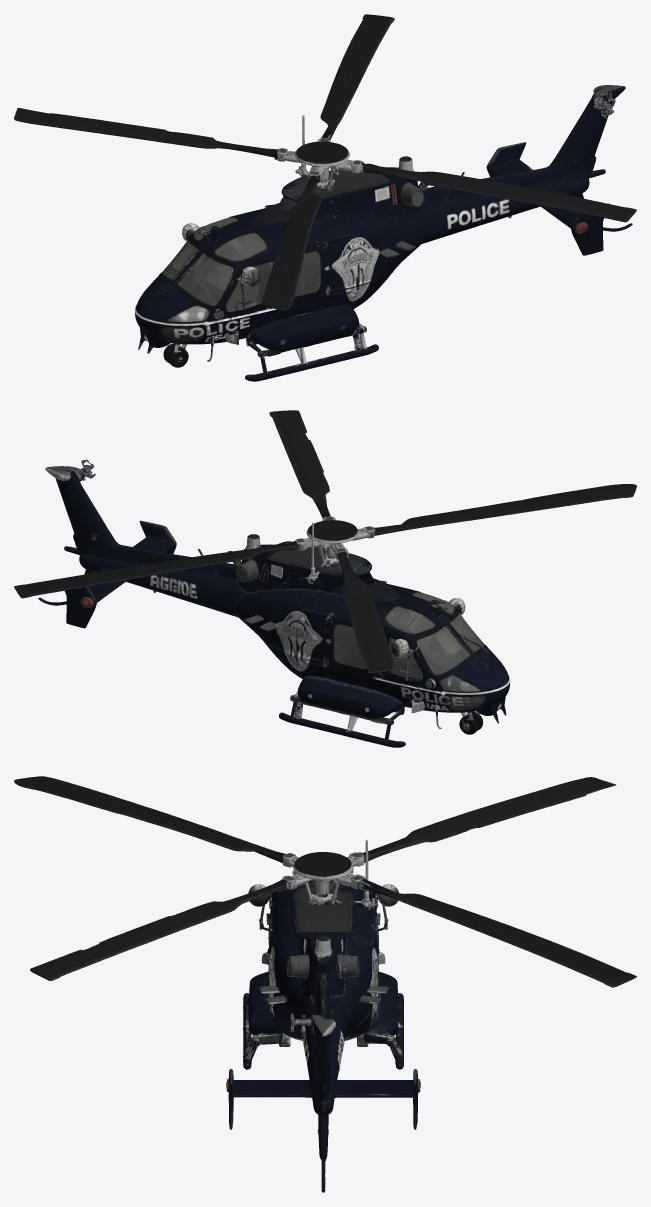
Rendered from helico-police.glb.
The picture shows the model from 3 angles, top to bottom: view 1: azimuth 30°, elevation 25°; view 2: azimuth 150°, elevation 25°; view 3: azimuth 270°, elevation 25°; orthographic projection. The views are drawn at different scales.
Size of the model in its own units: 1.91 by 0.7407 by 1.89.
Materials: 1 (1 with a texture image).
